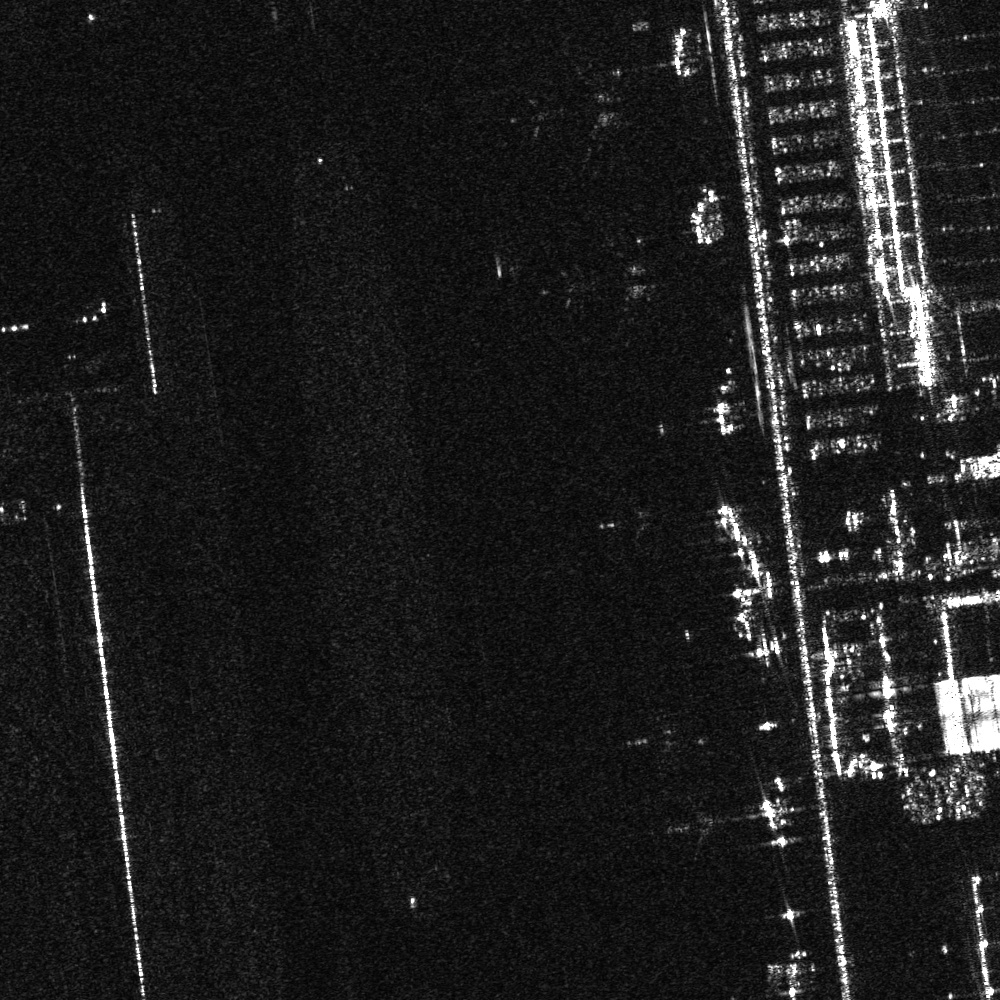A220: (651, 788, 720, 865)
Boeing787: (504, 52, 638, 177), (548, 231, 670, 339), (595, 489, 660, 549)
